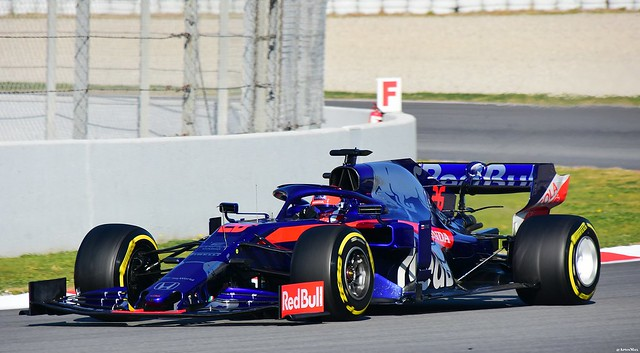F1 Car: (17, 144, 603, 327)
